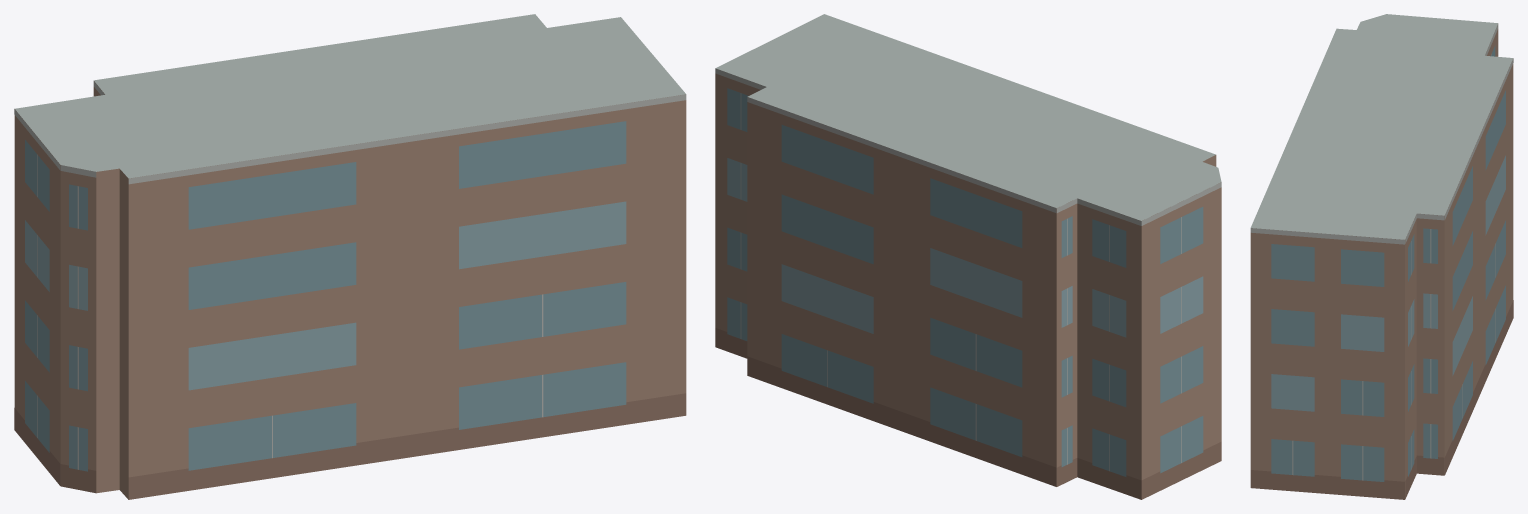
Rendered from survey-upis-32800216.glb.
3 views of the same model, side by side, from view 1: azimuth 30°, elevation 25°; view 2: azimuth 150°, elevation 25°; view 3: azimuth 270°, elevation 25° (orthographic). The views are drawn at different scales.
Parts seen in each view (by area): view 1: survey-upis-32800216.tmp; view 2: survey-upis-32800216.tmp; view 3: survey-upis-32800216.tmp.
Boxes of the visible parts, <box> form: survey-upis-32800216.tmp: <box>14,14,686,499</box>; survey-upis-32800216.tmp: <box>715,14,1221,499</box>; survey-upis-32800216.tmp: <box>1250,14,1513,499</box>.
Bounding box in the file's own units: 24.78 × 13.3 × 12.19.
